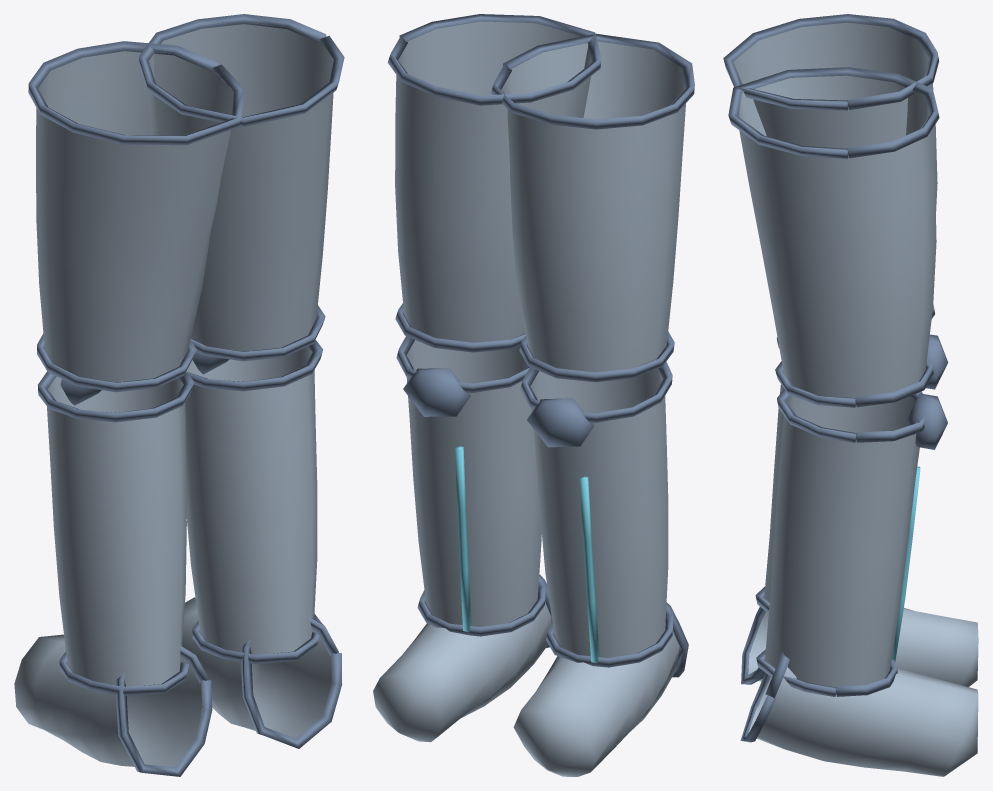
The model's file is titanium_greaves.glb.
The picture shows the model from 3 angles, left to right: view 1: azimuth 30°, elevation 25°; view 2: azimuth 150°, elevation 25°; view 3: azimuth 270°, elevation 25°; orthographic projection. The views are drawn at different scales.
Parts seen in each view (by area): view 1: titanium_greaves_cuisse.L; view 2: titanium_greaves_cuisse.L; view 3: titanium_greaves_cuisse.L.
Boxes of the visible parts, bbox=[...] form: titanium_greaves_cuisse.L: bbox=[14, 14, 344, 776]; titanium_greaves_cuisse.L: bbox=[373, 14, 694, 776]; titanium_greaves_cuisse.L: bbox=[723, 14, 978, 776].
Size of the model in its own units: 0.4249 by 0.9563 by 0.3366.
